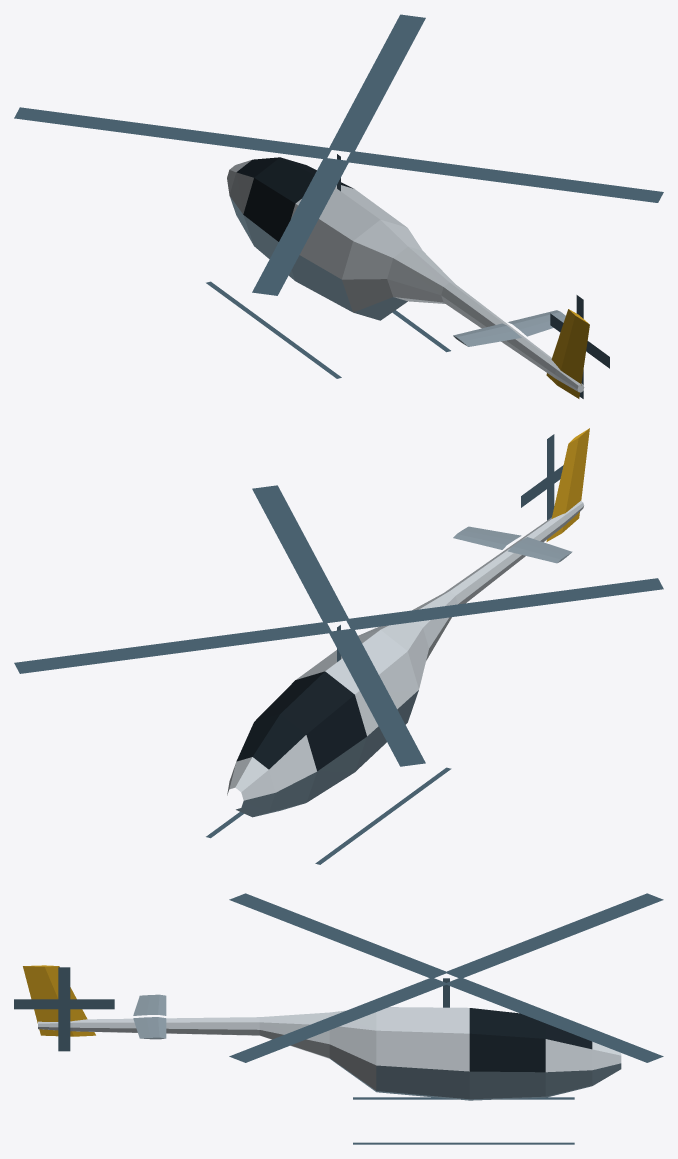
3 views of the same model, one above another, from view 1: azimuth 30°, elevation 25°; view 2: azimuth 150°, elevation 25°; view 3: azimuth 270°, elevation 25° (orthographic). The views are drawn at different scales.
Visible parts, largest first — view 1: lod0; view 2: lod0; view 3: lod0.
Boxes of the visible parts, x1=… form: lod0: x1=14, y1=14, x2=663, y2=398; lod0: x1=14, y1=428, x2=663, y2=864; lod0: x1=14, y1=893, x2=663, y2=1144.
Size of what is drawn, in the model's own units: 0.6178 by 0.2714 by 1.
